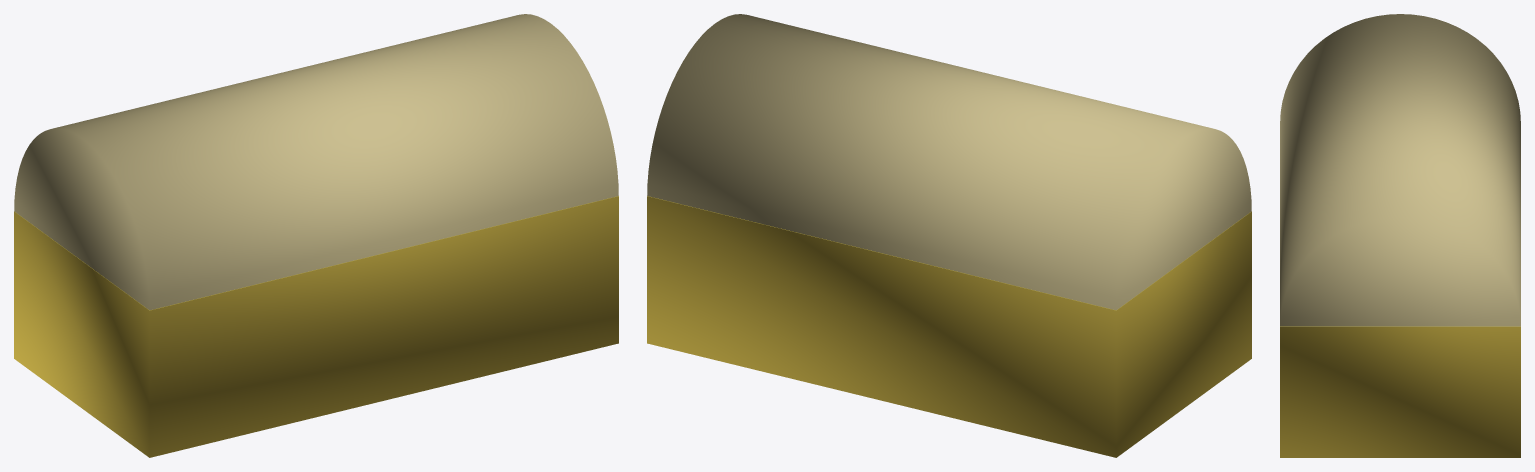
Rendered from chest.fbx.
3 renders of one model, left to right at view 1: azimuth 30°, elevation 25°; view 2: azimuth 150°, elevation 25°; view 3: azimuth 270°, elevation 25°, orthographic. The views are drawn at different scales.
Visible parts, largest first — view 1: Lid, Box; view 2: Lid, Box; view 3: Lid, Box.
Part boxes in pixels (box(x1,y1,x2,y2)): Lid: box(14, 14, 618, 310); Box: box(14, 196, 618, 457); Lid: box(647, 14, 1251, 310); Box: box(647, 196, 1251, 457); Lid: box(1280, 14, 1520, 326); Box: box(1280, 326, 1520, 457).
Size of the model in its own units: 4 by 2.2 by 2.
